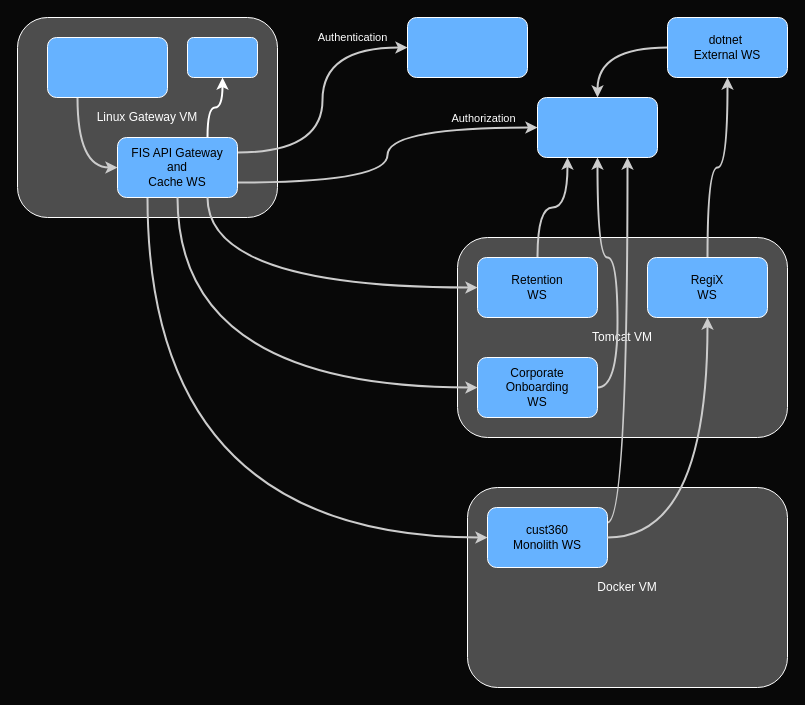
Image size: 805x705. Some labels were removed from this diagram. Here are the shapes that lost their labels. From the top down, the centre of each, then its label:
At (x=107, y=67): "nginx Reverse Proxy".
At (x=222, y=57): "app.log".
At (x=467, y=47): "LDAP".
At (x=597, y=127): "Oracle DB".
